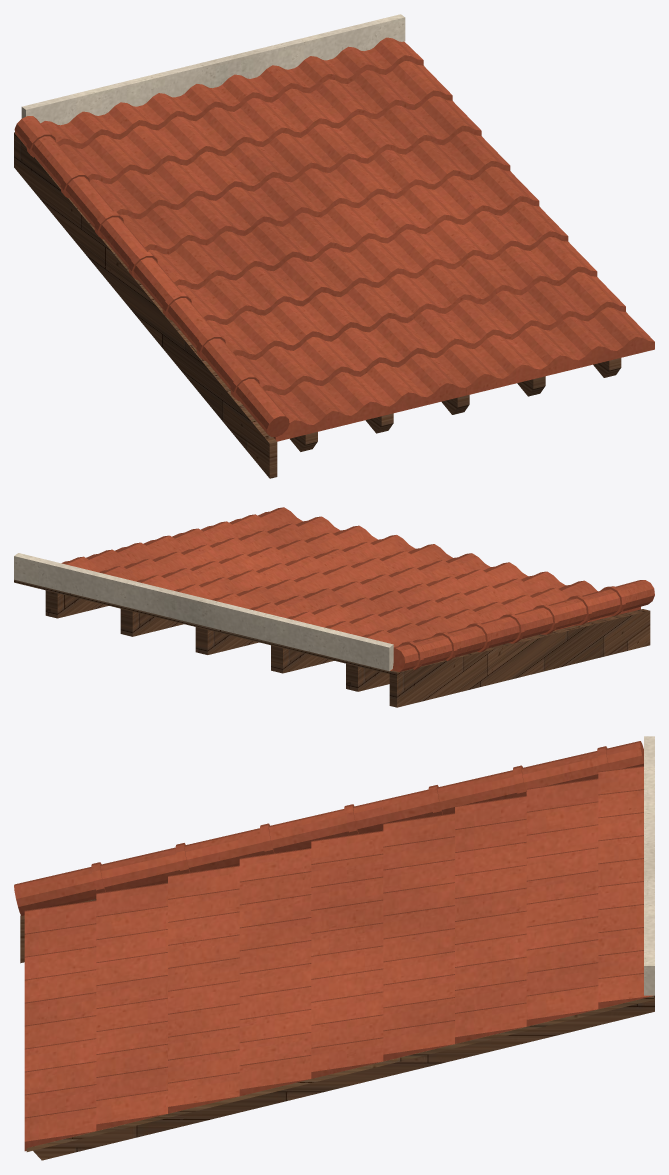
File: arcade_roof_end_l.glb
The picture shows the model from 3 angles, top to bottom: view 1: azimuth 30°, elevation 25°; view 2: azimuth 150°, elevation 25°; view 3: azimuth 270°, elevation 25°; orthographic projection. The views are drawn at different scales.
Visible parts, largest first — view 1: arcade_roof_end_l_tile_clay, arcade_roof_end_l_wood, arcade_roof_end_l_render; view 2: arcade_roof_end_l_tile_clay, arcade_roof_end_l_wood, arcade_roof_end_l_render, arcade_roof_end_l_planks; view 3: arcade_roof_end_l_tile_clay, arcade_roof_end_l_wood, arcade_roof_end_l_planks, arcade_roof_end_l_render.
Part boxes in pixels (x1,y1,x2,y2): arcade_roof_end_l_tile_clay: [14, 37, 654, 441]; arcade_roof_end_l_wood: [14, 132, 621, 478]; arcade_roof_end_l_render: [21, 14, 405, 125]; arcade_roof_end_l_tile_clay: [61, 507, 654, 671]; arcade_roof_end_l_wood: [45, 590, 650, 707]; arcade_roof_end_l_render: [14, 553, 393, 671]; arcade_roof_end_l_planks: [14, 579, 389, 673]; arcade_roof_end_l_tile_clay: [14, 741, 652, 1151]; arcade_roof_end_l_wood: [20, 882, 654, 1160]; arcade_roof_end_l_planks: [26, 995, 653, 1151]; arcade_roof_end_l_render: [644, 736, 654, 995].
Bounding box in the file's own units: 2.59 × 1.15 × 2.95.
Materials: 4 (4 with a texture image).
